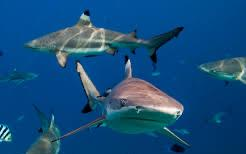Shark -Selachimorpha-: (48, 54, 190, 147), (23, 9, 182, 69), (7, 101, 79, 154), (196, 44, 246, 94)
